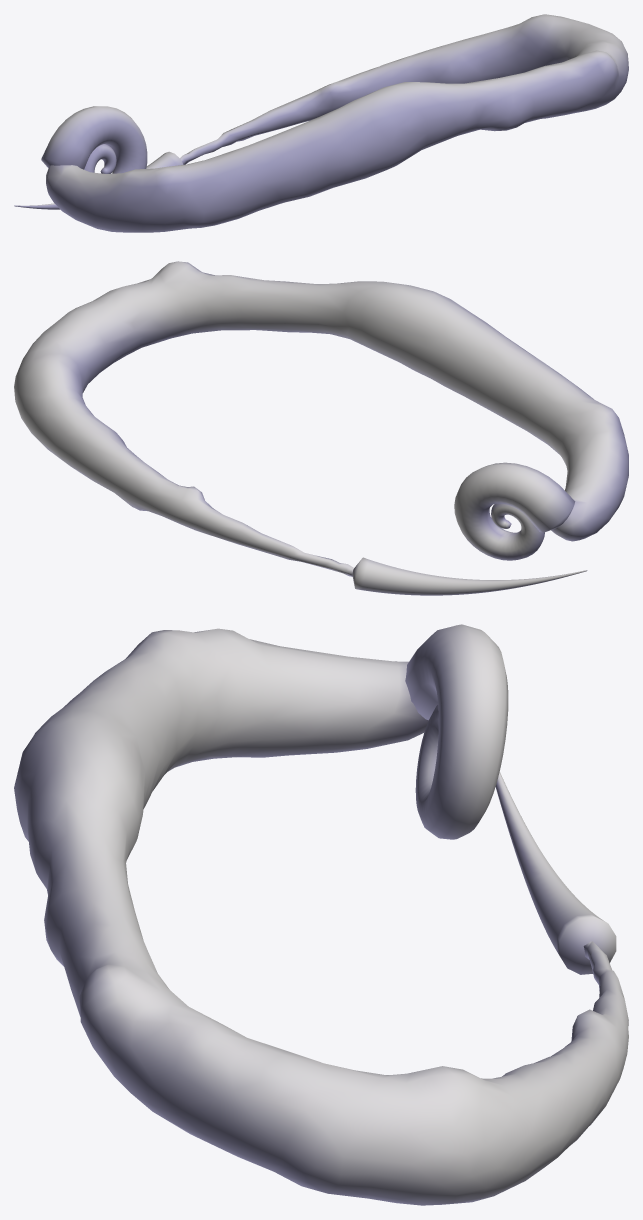
The model's file is gear5_cintura.fbx.
The picture shows the model from 3 angles, top to bottom: view 1: azimuth 30°, elevation 25°; view 2: azimuth 150°, elevation 25°; view 3: azimuth 270°, elevation 25°; orthographic projection. The views are drawn at different scales.
Visible parts, largest first — view 1: gear5_cintura; view 2: gear5_cintura; view 3: gear5_cintura.
Part boxes in pixels (box(x1,y1,x2,y2)): gear5_cintura: box(14, 14, 628, 232); gear5_cintura: box(14, 261, 628, 595); gear5_cintura: box(14, 624, 628, 1205).
Bounding box in the file's own units: 4.36 × 1.24 × 2.16.
